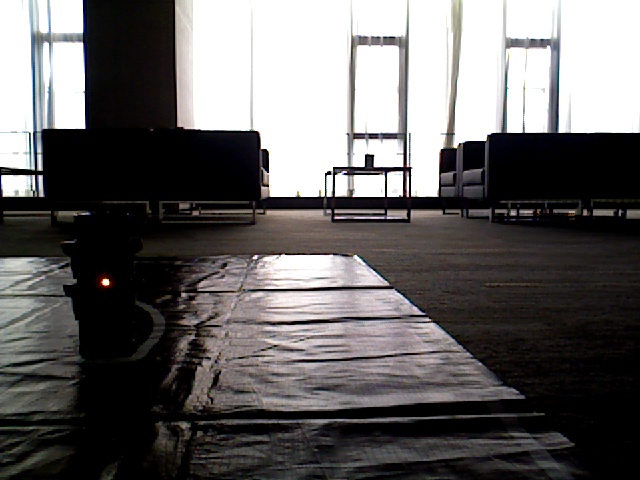yellow: (83, 216, 128, 337)
